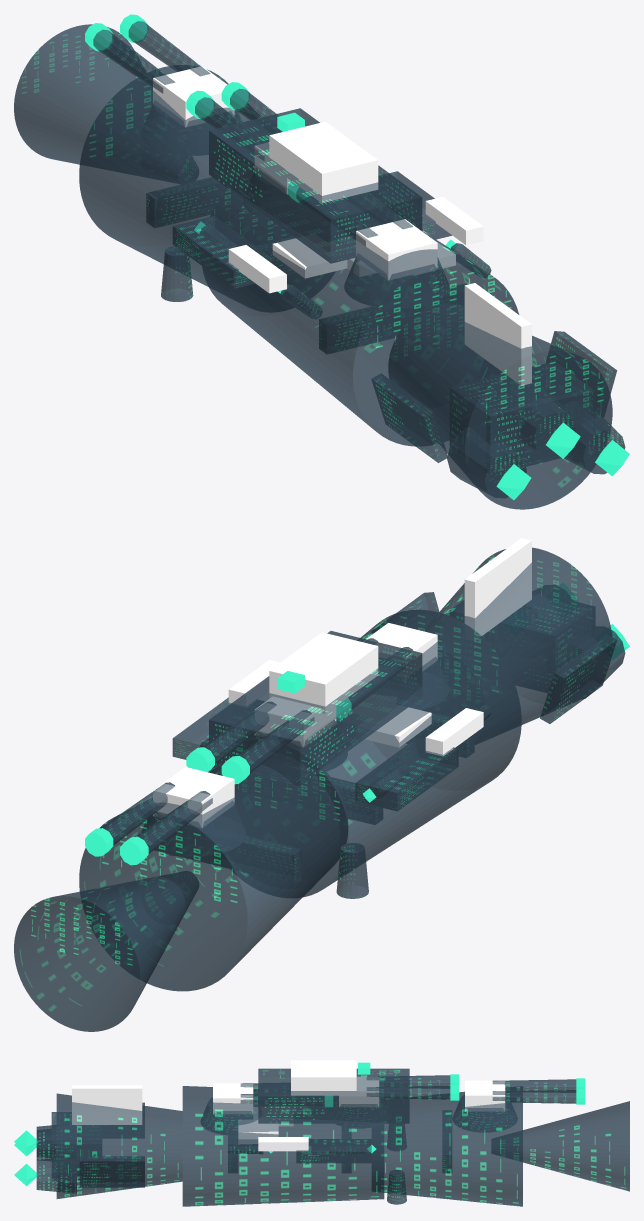
The model's file is croiseur.glb.
3 renders of one model, top to bottom at view 1: azimuth 30°, elevation 25°; view 2: azimuth 150°, elevation 25°; view 3: azimuth 270°, elevation 25°, orthographic. The views are drawn at different scales.
Parts seen in each view (by area): view 1: guerrier; view 2: guerrier; view 3: guerrier.
Boxes of the visible parts, x1,y1,x2,y2 form: guerrier: (14, 14, 629, 509); guerrier: (14, 538, 629, 1031); guerrier: (14, 1060, 629, 1206).
Bounding box in the file's own units: 0.64 × 0.595 × 2.45.
